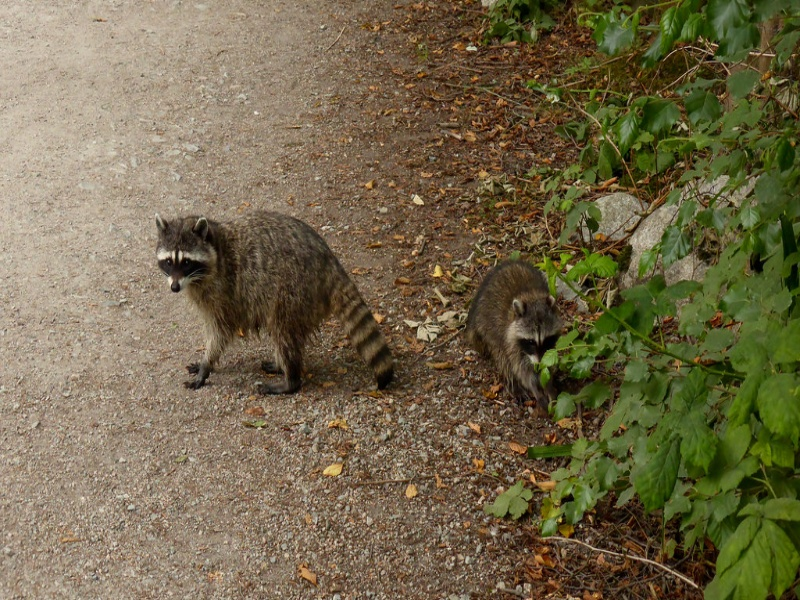raccoon: (147, 202, 406, 399), (464, 255, 567, 420)
